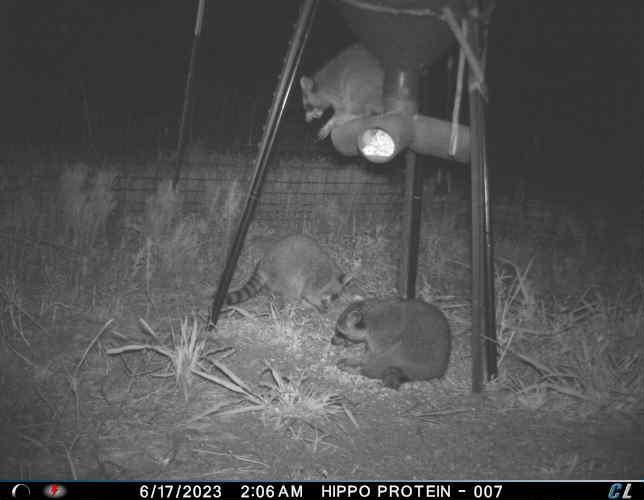Raccoon: (328, 294, 459, 392), (224, 232, 355, 316), (296, 39, 386, 141)
